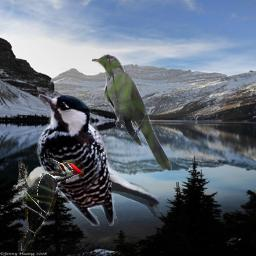Cuckoo: (92, 54, 175, 172)
Woodpecker: (32, 89, 161, 226), (18, 158, 84, 251)
